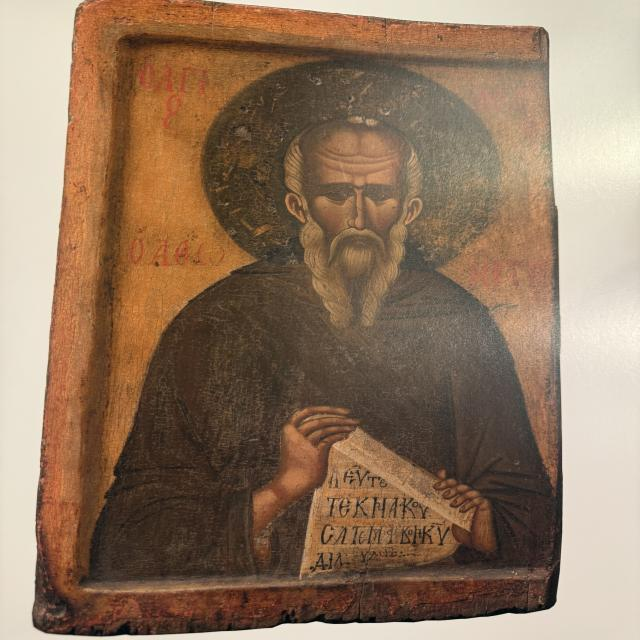aura: (199, 56, 508, 275)
saint: (101, 55, 550, 563)
scroll: (298, 395, 488, 576)
